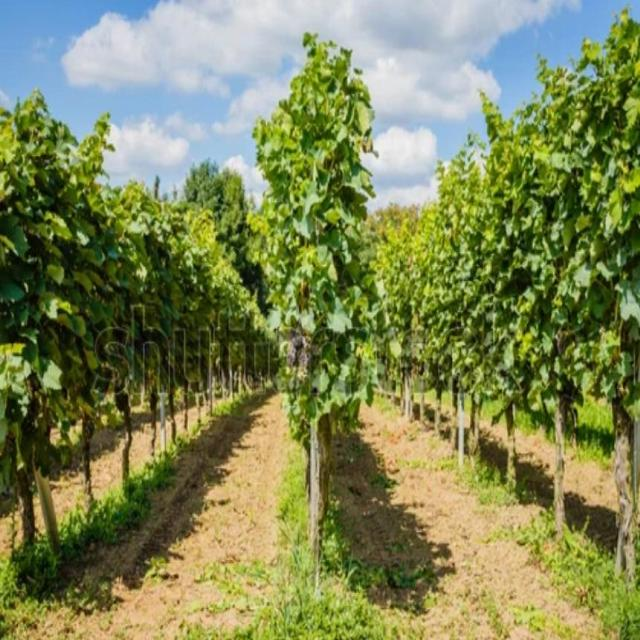row: (13, 383, 296, 622), (339, 397, 625, 625)
